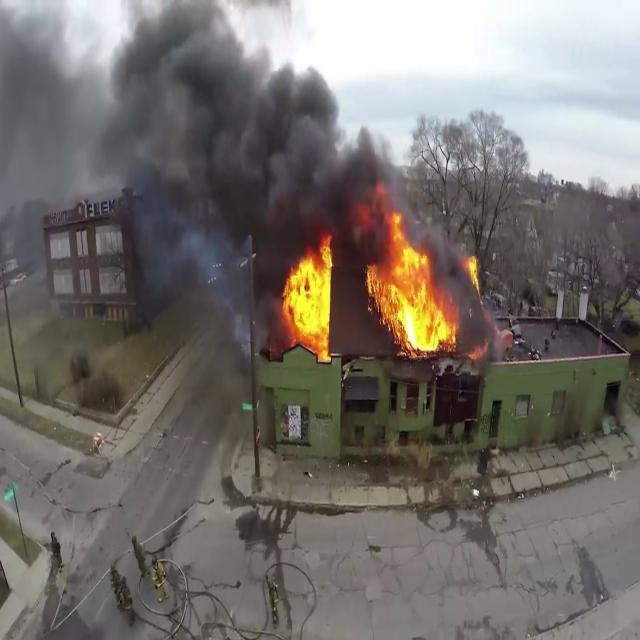Fire: (366, 210, 458, 356), (280, 233, 336, 358), (465, 251, 483, 300)
Smoke: (1, 0, 379, 288)
